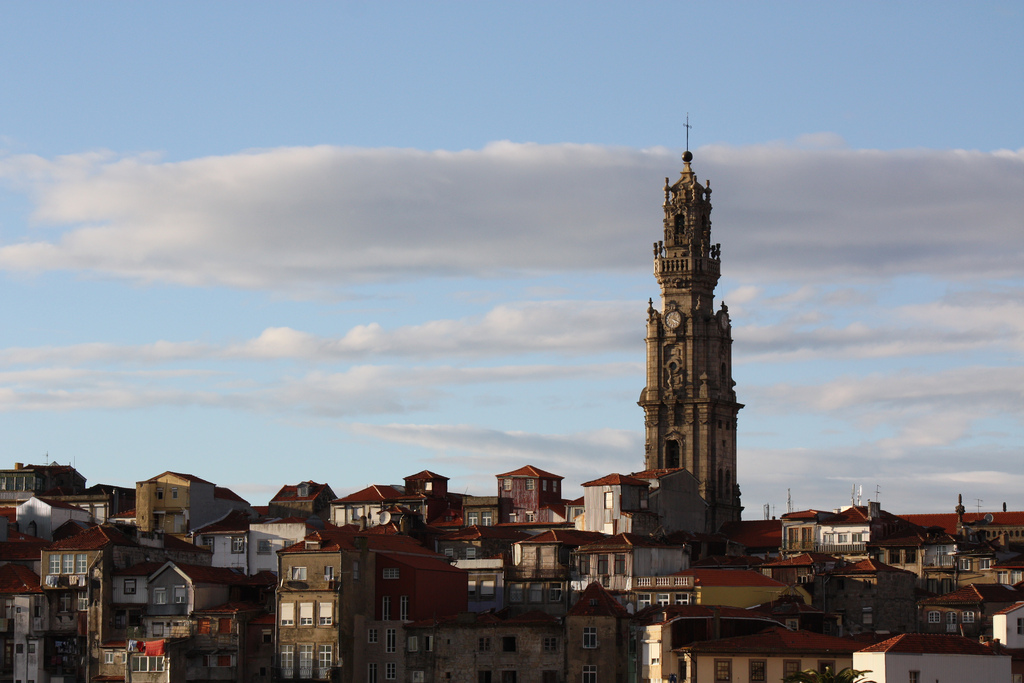clerigos: (627, 109, 748, 533)
